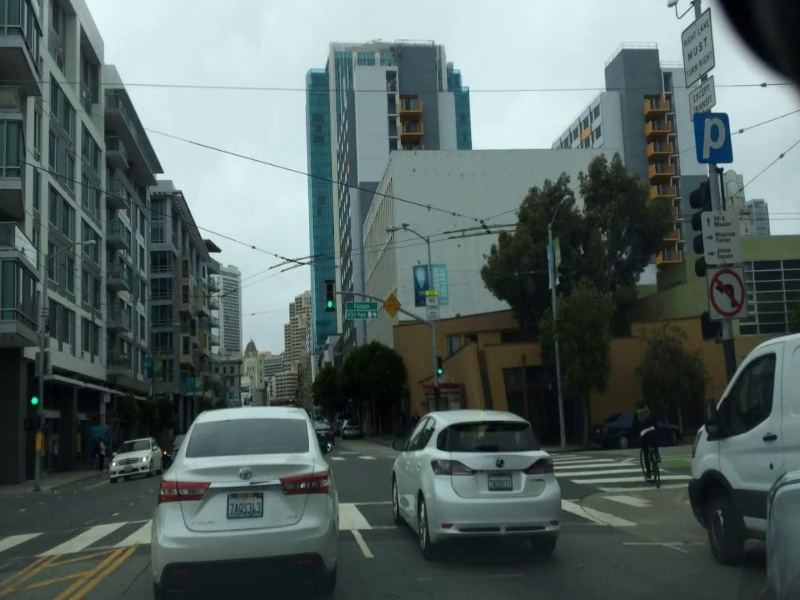car: (145, 403, 348, 594), (385, 403, 565, 561), (682, 334, 800, 559), (592, 405, 692, 446), (104, 431, 158, 486), (341, 416, 366, 442)
cyclist: (627, 403, 674, 493)
